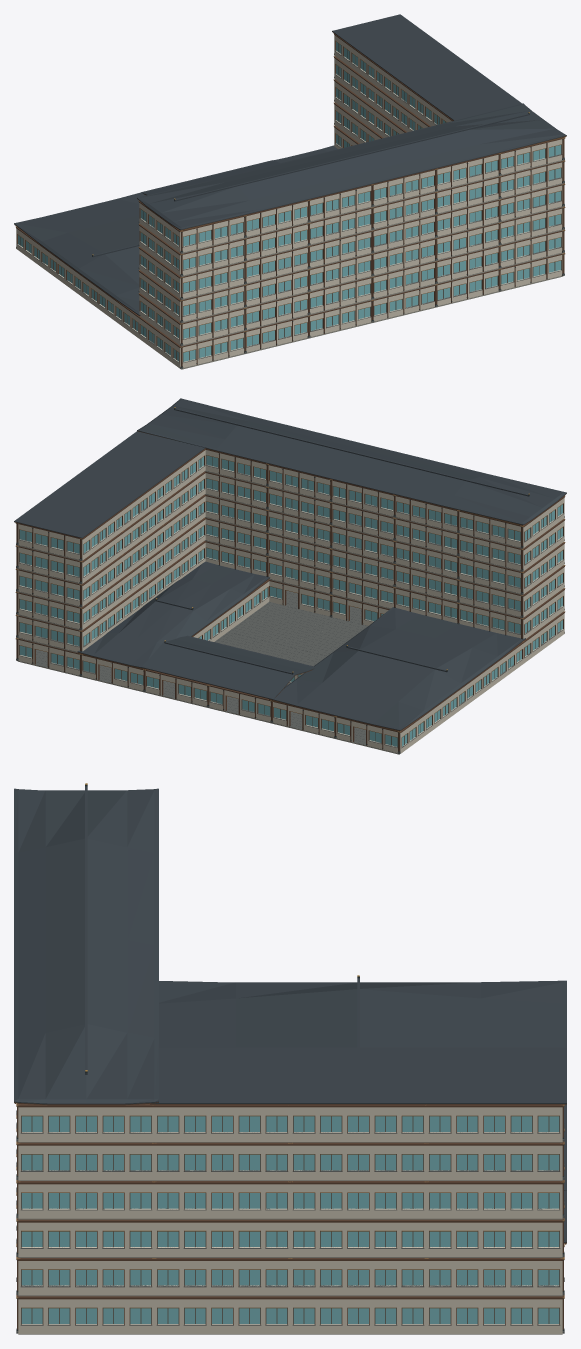
3 renders of one model, top to bottom at view 1: azimuth 30°, elevation 25°; view 2: azimuth 150°, elevation 25°; view 3: azimuth 270°, elevation 25°, orthographic. The views are drawn at different scales.
Visible parts, largest first — view 1: 参数墙 · 独立窗玻璃 (×53), 连续屋面 · hip (×2), 连续屋面 · flat, 连续屋面 · gable; view 2: 参数墙 · 独立窗玻璃 (×56), 连续屋面 · hip (×3), 参数墙 · 通行门洞 (×8), 连续屋面 · flat, 连续屋面 · gable, 石铺面与混凝土楼板 (×4); view 3: 参数墙 · 独立窗玻璃 (×24), 连续屋面 · hip (×2), 连续屋面 · flat.
Part boxes in pixels (bbox=[...]): 参数墙 · 独立窗玻璃 (×53): bbox=[16, 33, 562, 368]; 连续屋面 · hip (×2): bbox=[14, 103, 566, 316]; 连续屋面 · flat: bbox=[332, 14, 521, 120]; 连续屋面 · gable: bbox=[141, 160, 280, 195]; 参数墙 · 独立窗玻璃 (×56): bbox=[17, 449, 564, 753]; 连续屋面 · hip (×3): bbox=[77, 398, 566, 731]; 参数墙 · 通行门洞 (×8): bbox=[18, 580, 398, 752]; 连续屋面 · flat: bbox=[14, 431, 205, 538]; 连续屋面 · gable: bbox=[141, 635, 314, 699]; 石铺面与混凝土楼板 (×4): bbox=[214, 602, 367, 666]; 参数墙 · 独立窗玻璃 (×24): bbox=[18, 1104, 562, 1333]; 连续屋面 · hip (×2): bbox=[14, 783, 566, 1105]; 连续屋面 · flat: bbox=[150, 1047, 566, 1104].
Bounding box in the file's own units: 66.4 × 25.08 × 49.6.
Materials: 18 (18 with a texture image).
